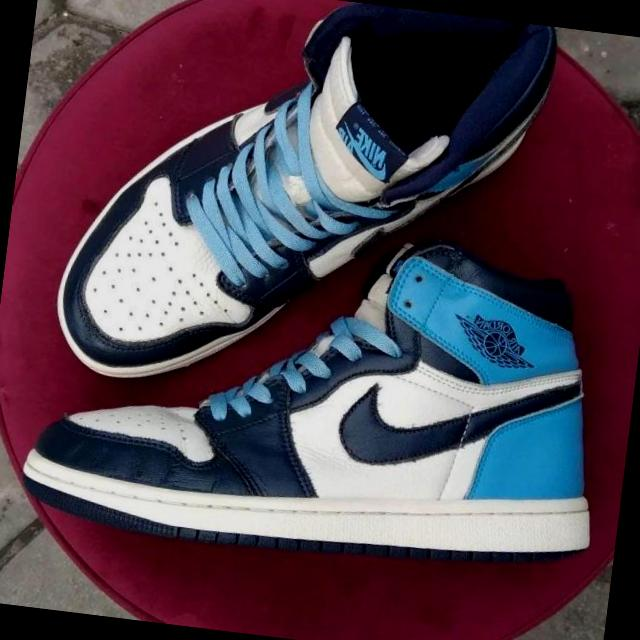nike_fake_jordan: (14, 192, 632, 592), (40, 0, 561, 428)
